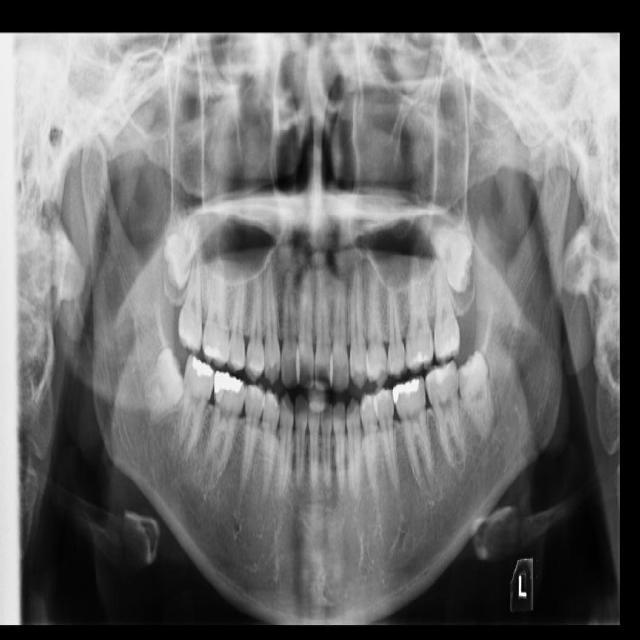Filling: (212, 368, 243, 399), (392, 378, 418, 405), (430, 364, 451, 385), (193, 356, 212, 376), (202, 344, 220, 361), (412, 350, 428, 368)
impacted tooth: (164, 210, 225, 289), (419, 218, 472, 288), (457, 353, 498, 441), (142, 348, 185, 422)
